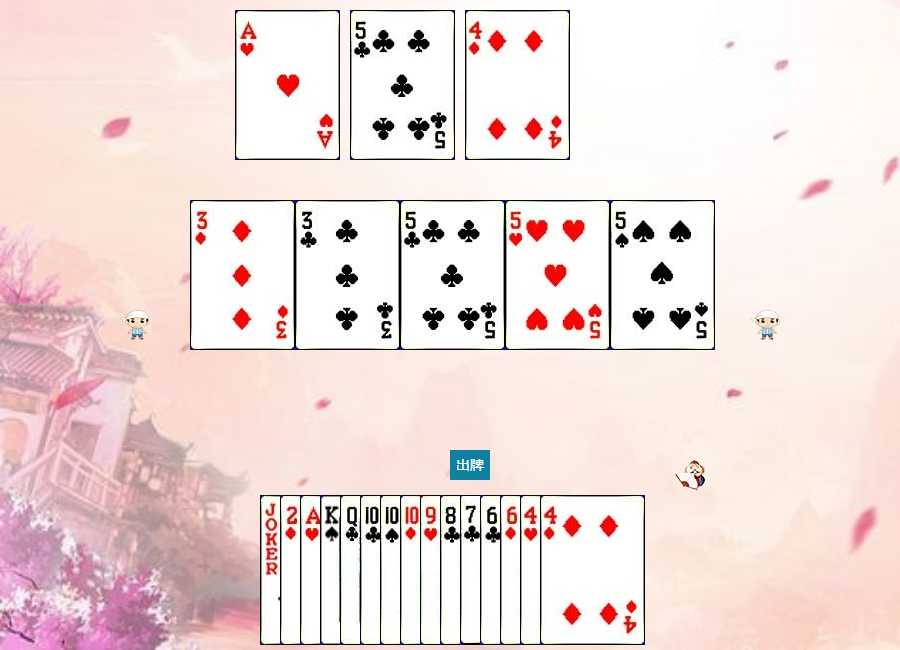10~1: (400, 495, 505, 645)
10~2: (360, 495, 465, 645)
10~4: (380, 495, 485, 645)
12~2: (340, 495, 445, 645)
13~4: (320, 495, 425, 645)
14~3: (235, 10, 340, 160), (300, 495, 405, 645)
15~1: (280, 495, 385, 645)
18~4: (260, 495, 365, 645)
3~1: (190, 200, 295, 350)
3~2: (295, 200, 400, 350)
4~1: (465, 10, 570, 160), (540, 495, 645, 645)
4~3: (520, 495, 625, 645)
5~2: (350, 10, 455, 160), (400, 200, 505, 350)
5~3: (505, 200, 610, 350)
5~4: (610, 200, 715, 350)
6~1: (500, 495, 605, 645)
6~2: (480, 495, 585, 645)
7~2: (460, 495, 565, 645)
8~2: (440, 495, 545, 645)
9~3: (420, 495, 525, 645)
